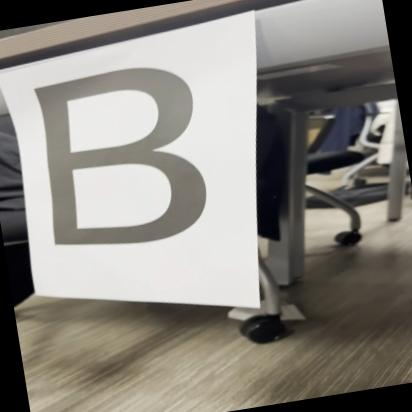seat: (19, 48, 226, 277)
